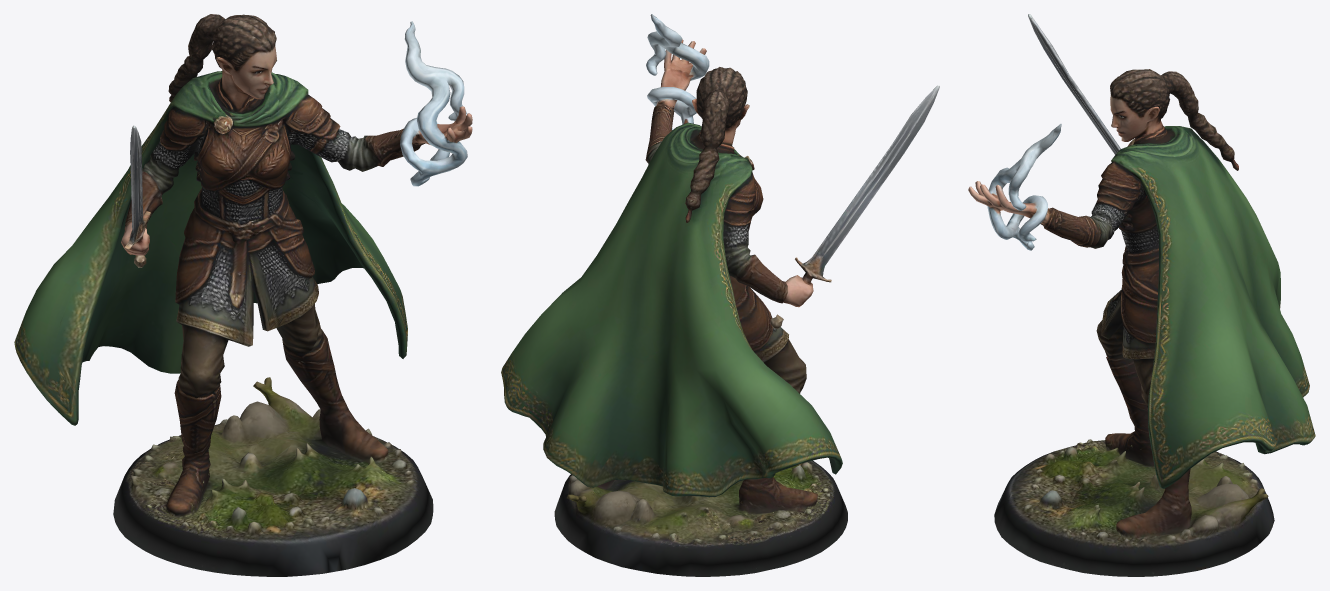
Rendered from spellsword_alt1_female.glb.
3 views of the same model, side by side, from view 1: azimuth 30°, elevation 25°; view 2: azimuth 150°, elevation 25°; view 3: azimuth 270°, elevation 25° (orthographic). The views are drawn at different scales.
Parts seen in each view (by area): view 1: tripo_node_e8fa9cdb-6544-4a65-80dc-687defb1665c; view 2: tripo_node_e8fa9cdb-6544-4a65-80dc-687defb1665c; view 3: tripo_node_e8fa9cdb-6544-4a65-80dc-687defb1665c.
Part boxes in pixels (box(x1,y1,x2,y2)): tripo_node_e8fa9cdb-6544-4a65-80dc-687defb1665c: box(14, 14, 472, 576); tripo_node_e8fa9cdb-6544-4a65-80dc-687defb1665c: box(501, 14, 939, 576); tripo_node_e8fa9cdb-6544-4a65-80dc-687defb1665c: box(968, 14, 1315, 576).
Bounding box in the file's own units: 0.7747 × 0.998 × 0.7233.
1 material, 1 textured.
